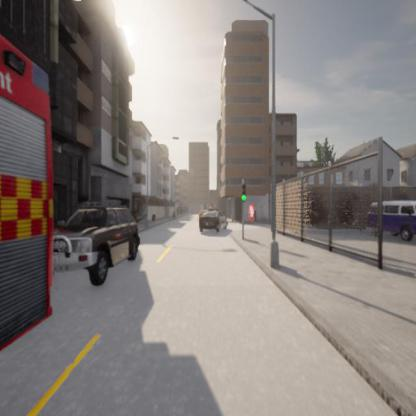traffic_light_green: (242, 183, 247, 203)
vehicle: (55, 206, 139, 285), (368, 200, 415, 243), (199, 210, 226, 234)
